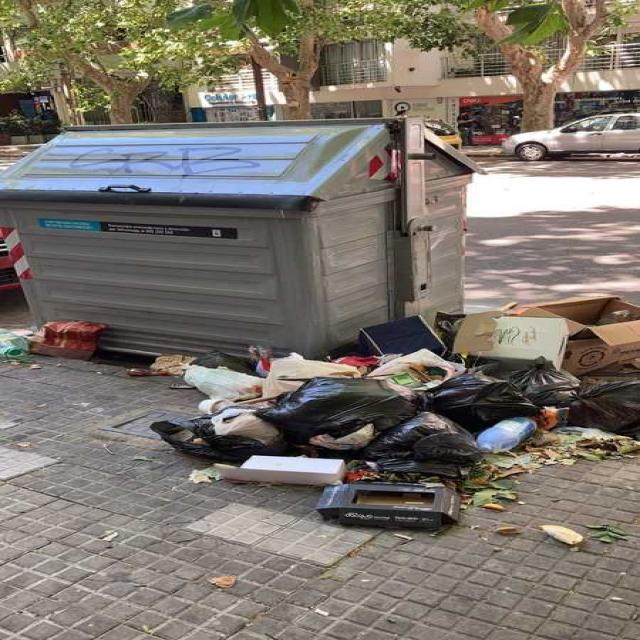garbage: (141, 292, 638, 530), (0, 319, 112, 369)
